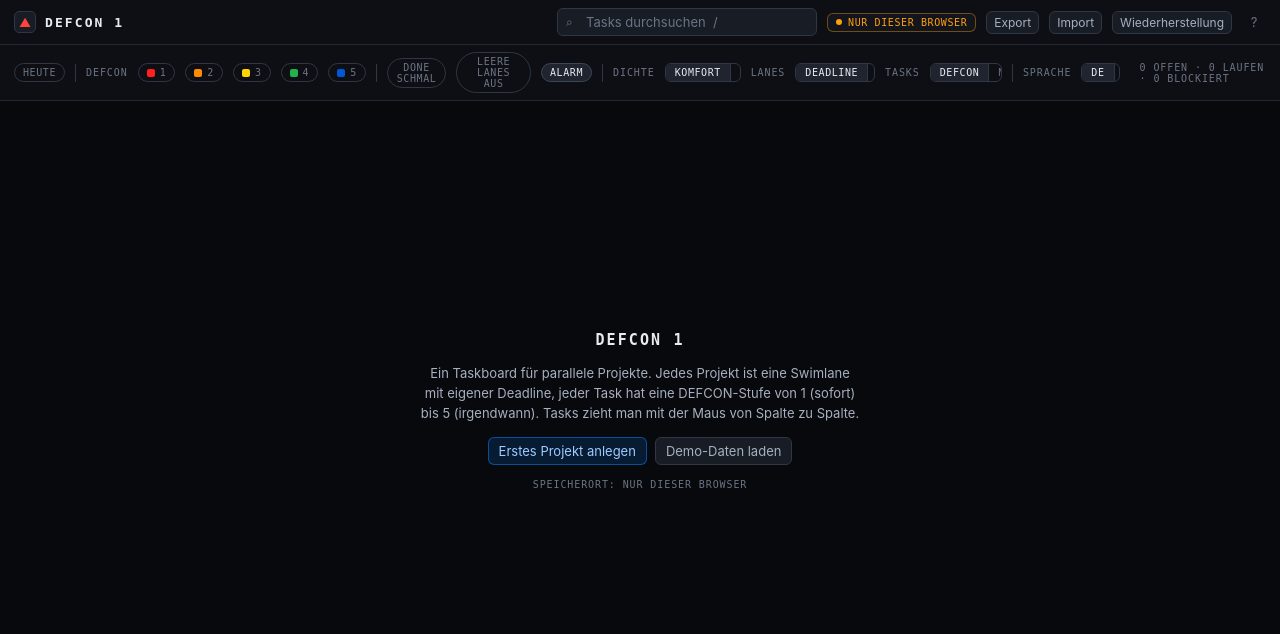
it: App › moves the selected task between columns with the number keys
Click the button "Demo-Daten laden".
click(724, 451)  # box [655,437,792,465]
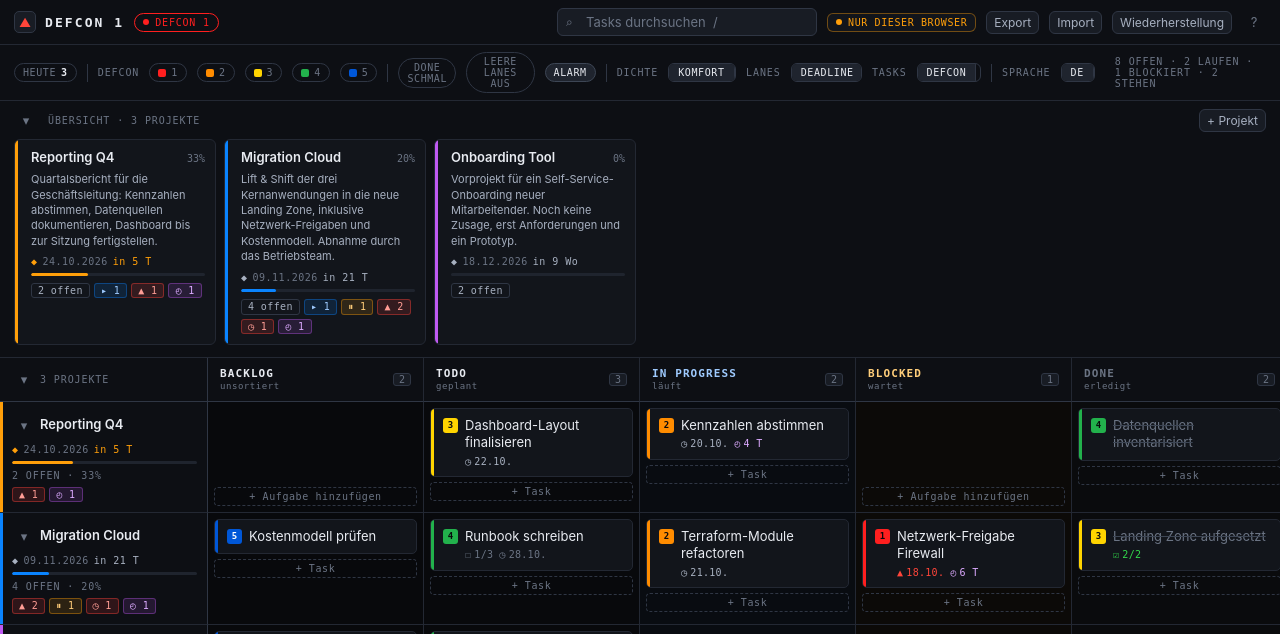
Expected: the button "5 Kostenmodell prüfen" is shown
Expected: the text "Kostenmodell prüfen" is shown, [249,528,376,544]
Click the button "5 Kostenmodell prüfen".
click(316, 536)  # box [214,519,417,554]
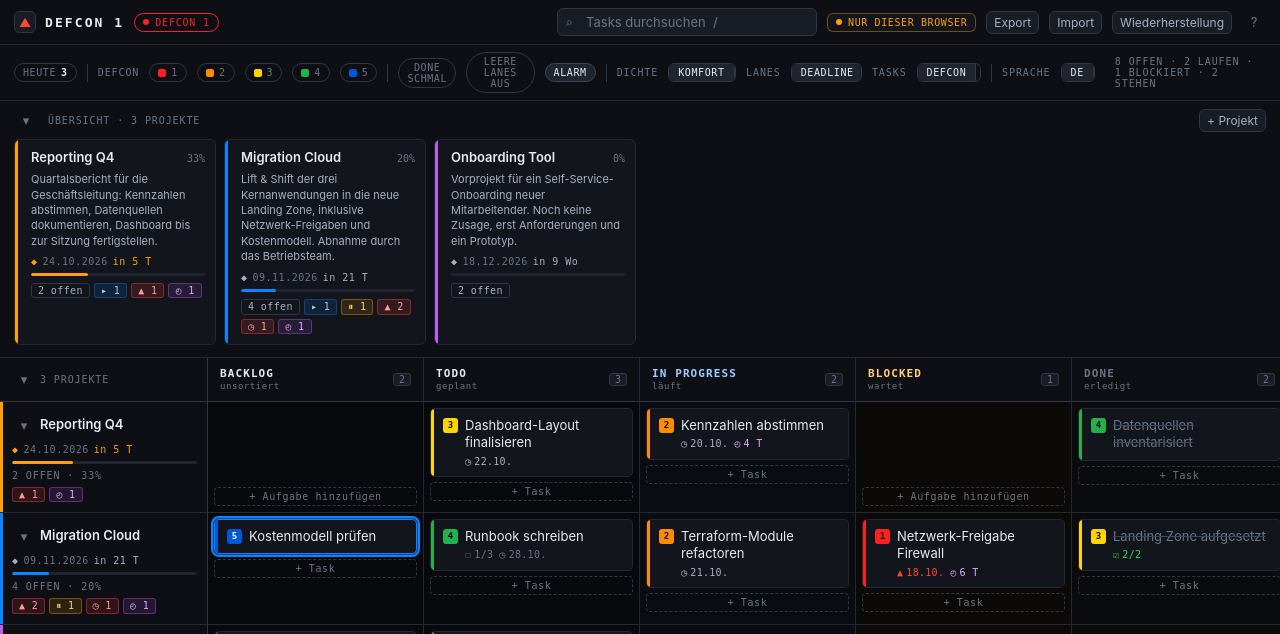
Press 3
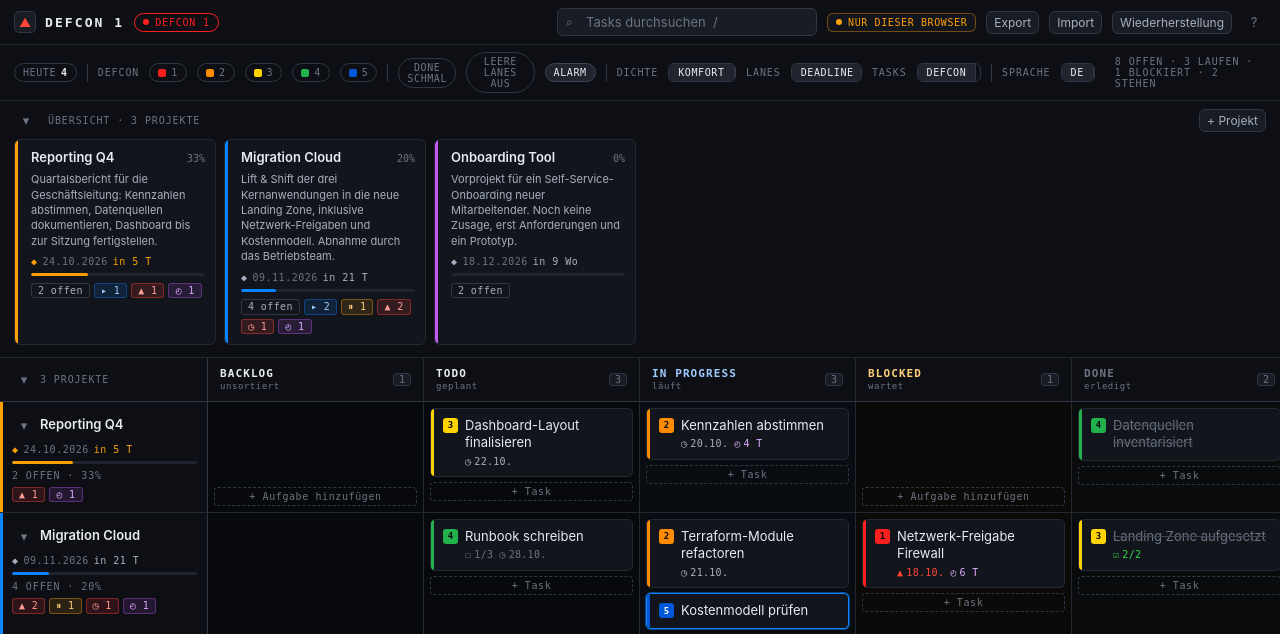
Expected: the button "5 Kostenmodell prüfen" is shown, [646,593,849,629]
Expected: the text "Kostenmodell prüfen" is shown, [681,602,808,618]
Press x
(page scrolled)
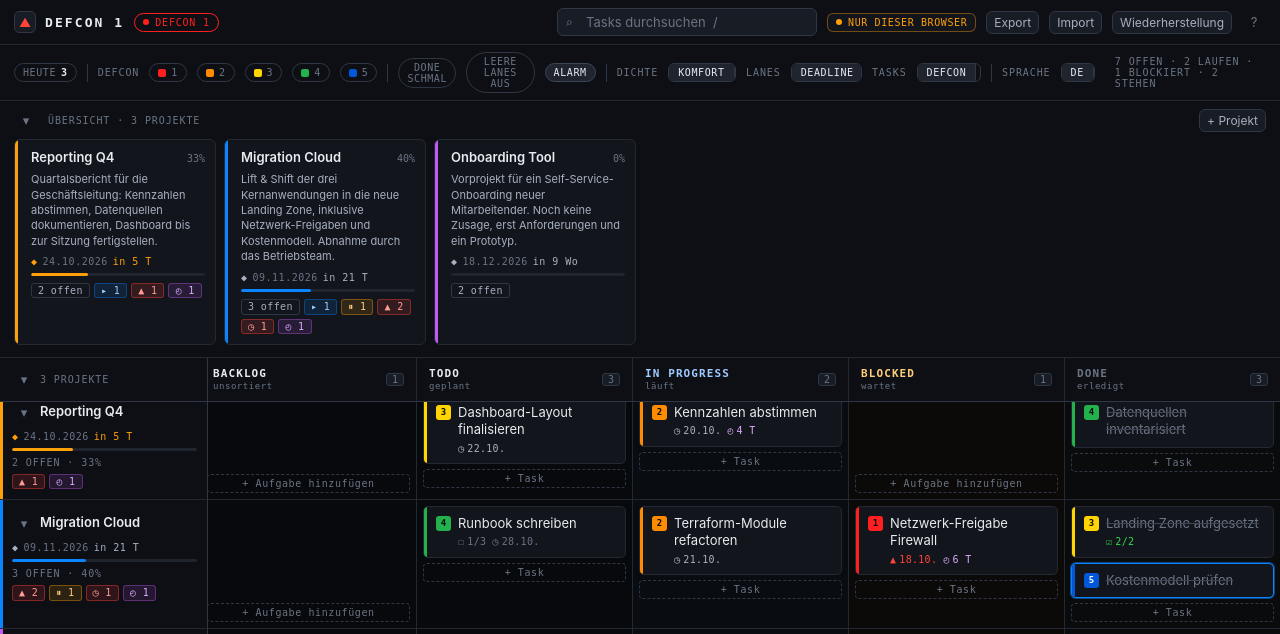
Expected: the button "5 Kostenmodell prüfen" is shown, [1071,563,1274,598]
Expected: the text "Kostenmodell prüfen" is shown, [1106,572,1233,588]
